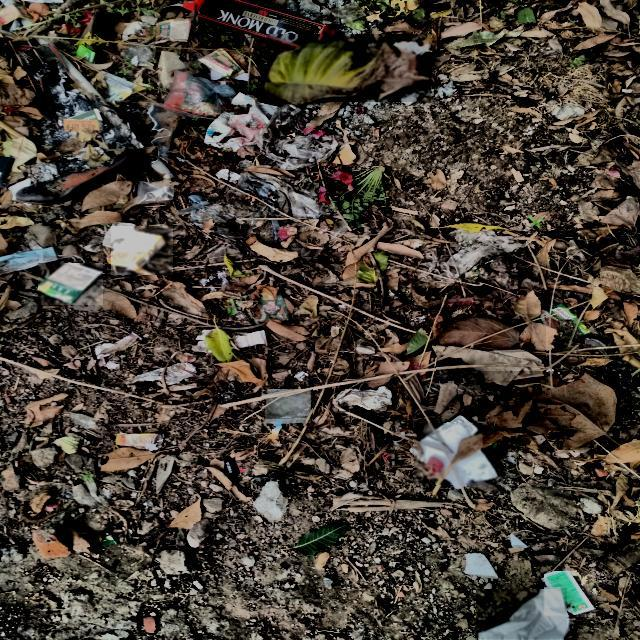anorganik: (38, 264, 103, 305), (544, 572, 596, 616), (263, 389, 313, 425)
organik: (579, 0, 640, 237), (267, 34, 431, 102), (483, 373, 620, 450), (436, 314, 546, 382), (198, 0, 337, 48), (414, 423, 503, 485), (476, 590, 567, 638), (320, 166, 392, 225), (111, 227, 172, 275)
